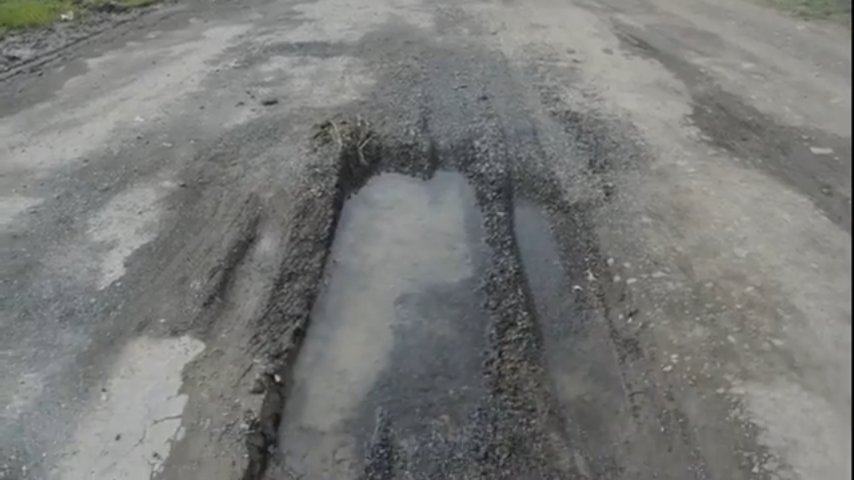pothole: (557, 67, 854, 480), (168, 324, 279, 434)
